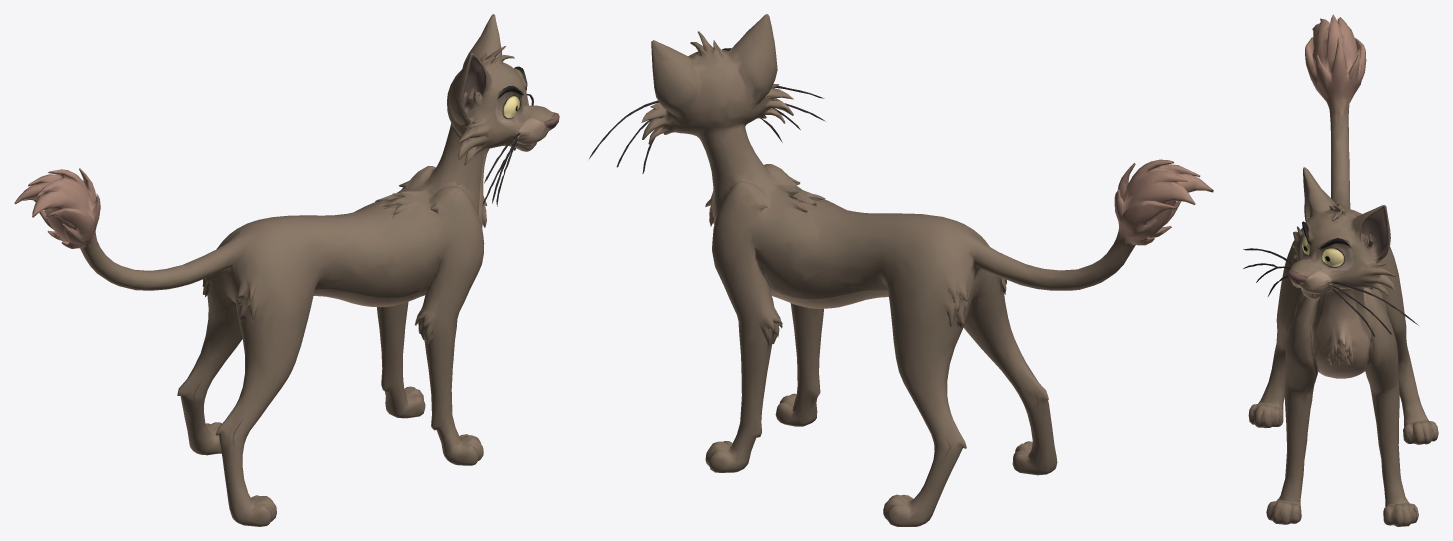
Rendered from SGTTIBBS.glb.
3 renders of one model, left to right at view 1: azimuth 30°, elevation 25°; view 2: azimuth 150°, elevation 25°; view 3: azimuth 270°, elevation 25°, orthographic. The views are drawn at different scales.
Parts seen in each view (by area): view 1: tripo_node_07a8f2ef-c2b3-43ac-95dc-cc738a3435e3; view 2: tripo_node_07a8f2ef-c2b3-43ac-95dc-cc738a3435e3; view 3: tripo_node_07a8f2ef-c2b3-43ac-95dc-cc738a3435e3.
Part boxes in pixels (<box>): tripo_node_07a8f2ef-c2b3-43ac-95dc-cc738a3435e3: <box>14,14,559,526</box>; tripo_node_07a8f2ef-c2b3-43ac-95dc-cc738a3435e3: <box>589,14,1213,526</box>; tripo_node_07a8f2ef-c2b3-43ac-95dc-cc738a3435e3: <box>1243,14,1438,526</box>.
Bounding box in the file's own units: 1.44 × 1 × 0.4922.
Materials: 1 (1 with a texture image).
